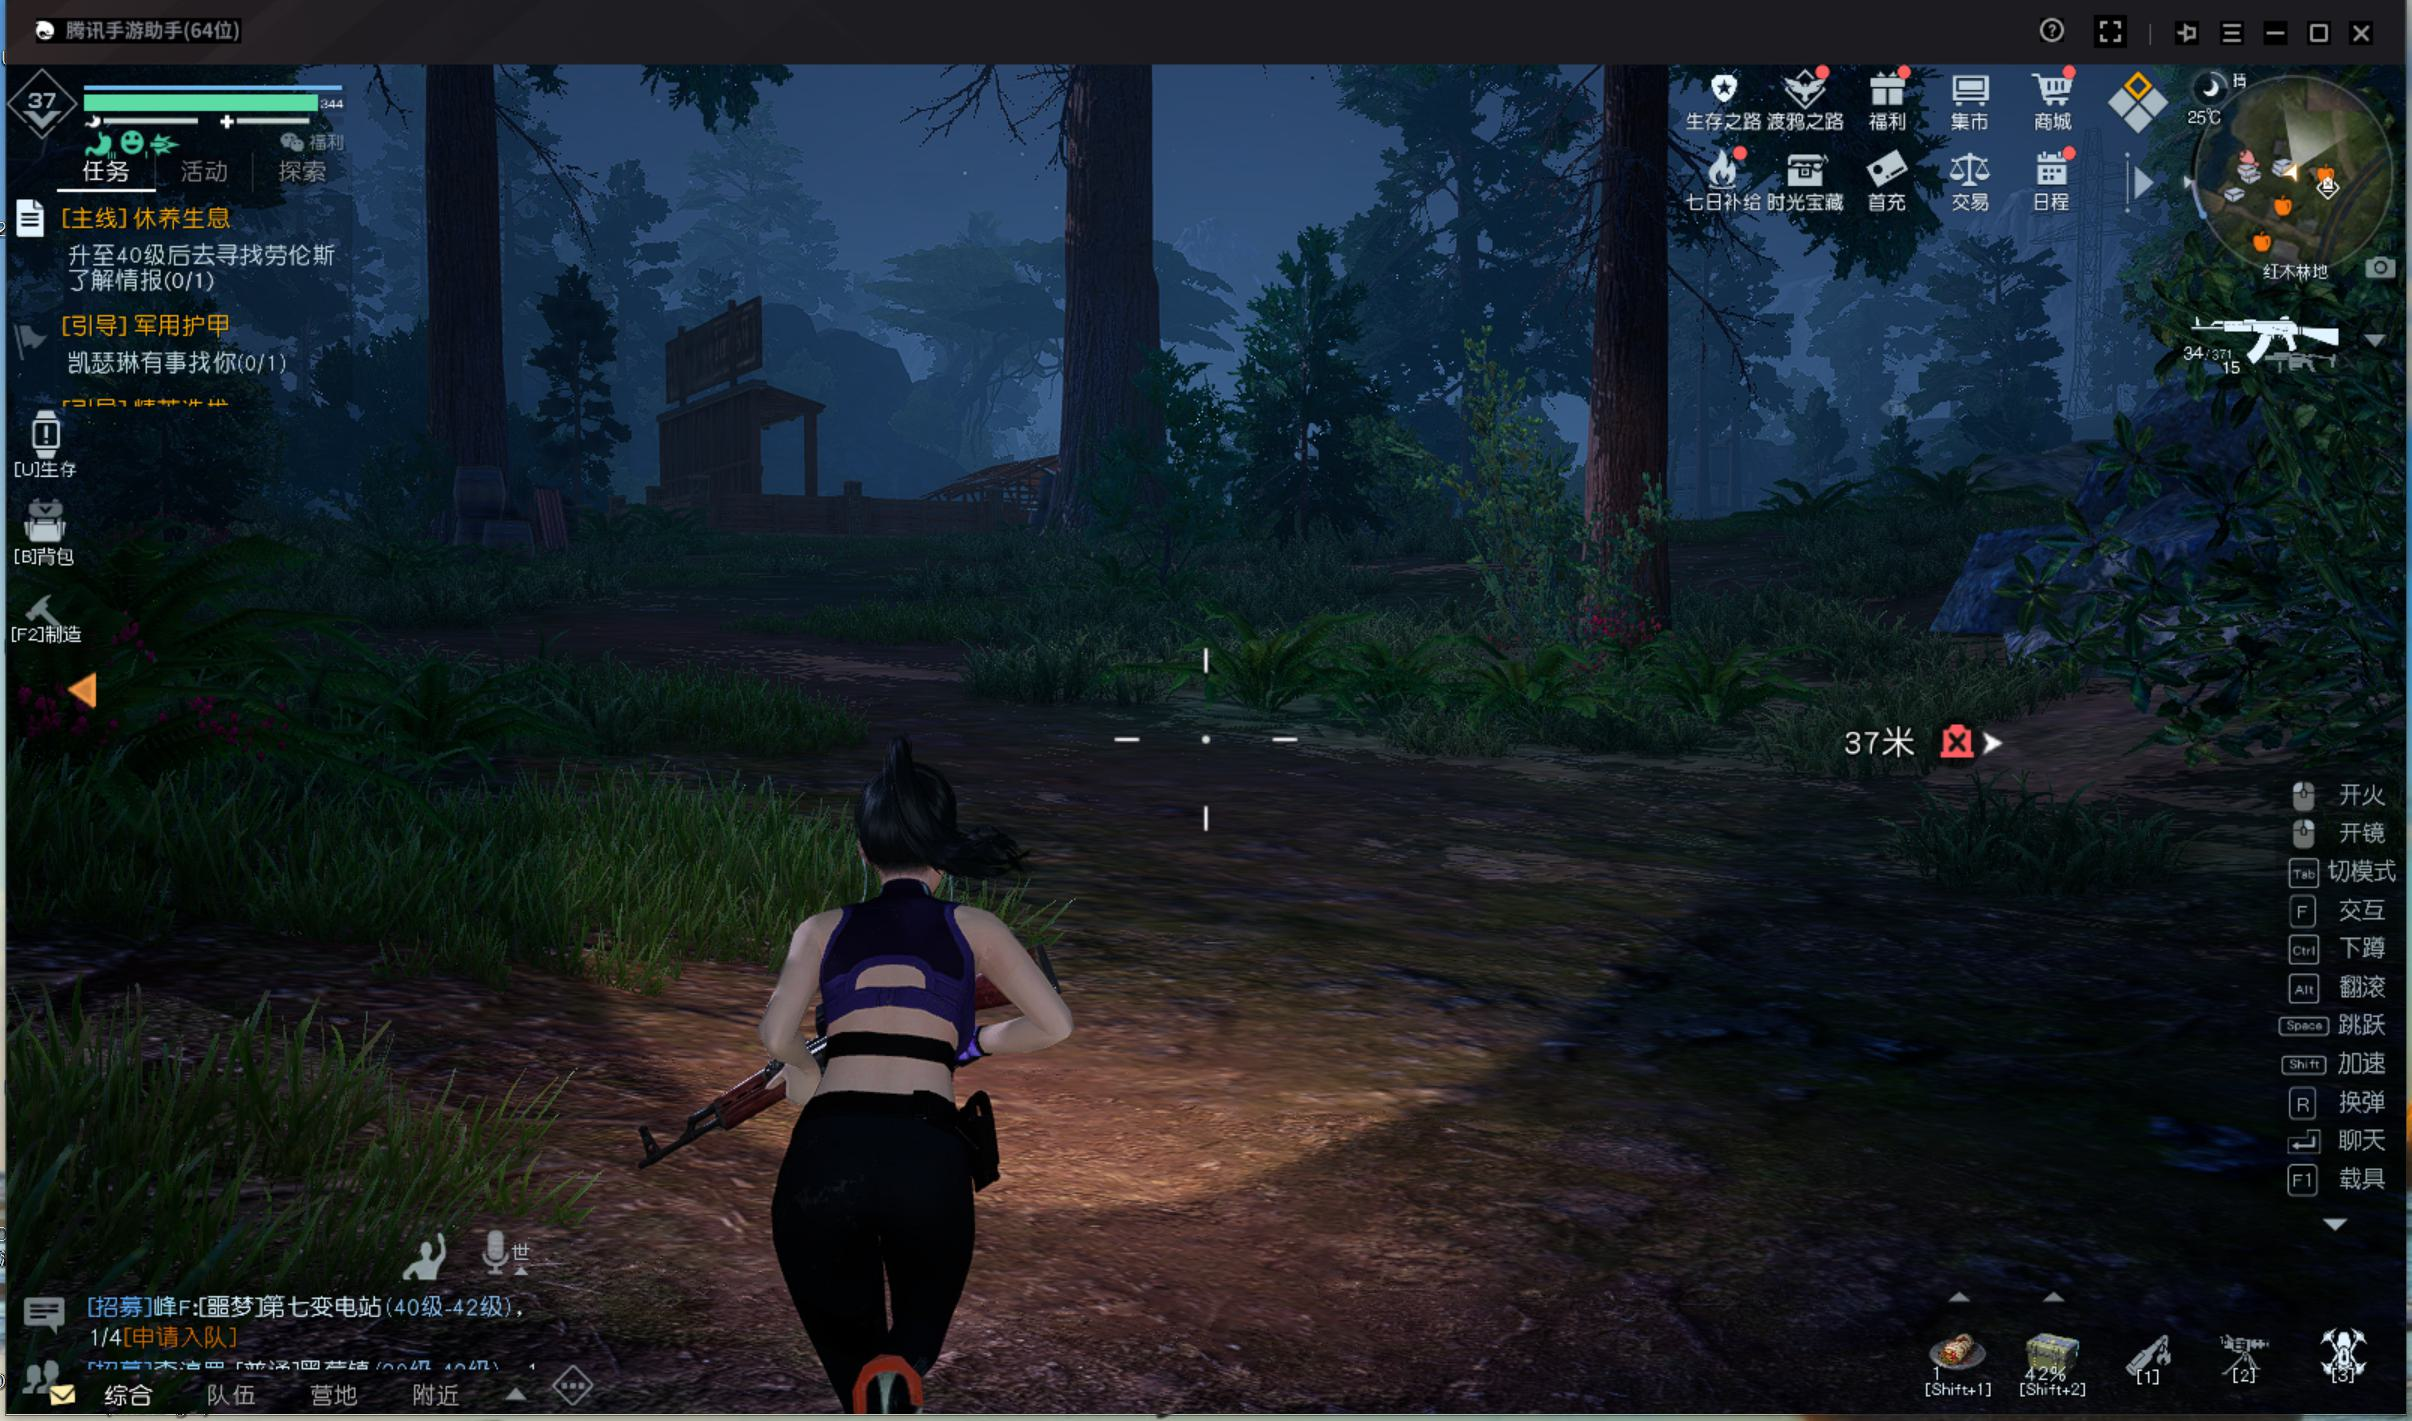tree: (1054, 98, 1181, 548), (1580, 123, 1680, 678), (416, 86, 524, 540)
